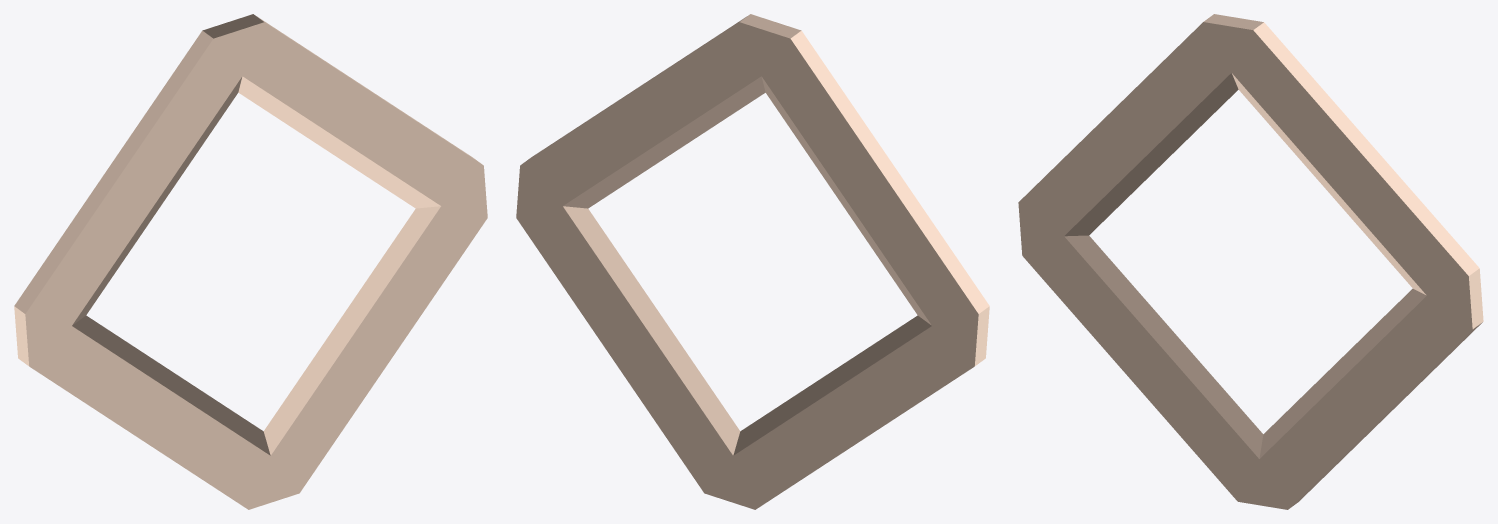
Rendered from Rondelle Aiguille Heures.obj.
3 views of the same model, side by side, from view 1: azimuth 30°, elevation 25°; view 2: azimuth 150°, elevation 25°; view 3: azimuth 330°, elevation 25° (orthographic).
Visible parts, largest first — view 1: Face_14, Face_17, Face_6, Face_15, Face_16, Face_18, Face_7, Face_5; view 2: Face_1, Face_12, Face_6, Face_10, Face_11, Face_13, Face_7, Face_5; view 3: Face_14, Face_15, Face_8, Face_18, Face_17, Face_16, Face_9, Face_2, Face_7.
Boxes of the visible parts, left/top/right/bottom form: Face_14: left=25, top=22, right=487, bottom=509; Face_17: left=263, top=206, right=440, bottom=455; Face_6: left=14, top=31, right=213, bottom=313; Face_15: left=72, top=315, right=270, bottom=455; Face_16: left=238, top=76, right=440, bottom=208; Face_18: left=72, top=77, right=241, bottom=325; Face_7: left=202, top=14, right=263, bottom=38; Face_5: left=14, top=306, right=29, bottom=366; Face_1: left=516, top=22, right=978, bottom=509; Face_12: left=563, top=206, right=740, bottom=455; Face_6: left=790, top=31, right=989, bottom=313; Face_10: left=733, top=315, right=931, bottom=455; Face_11: left=563, top=76, right=765, bottom=208; Face_13: left=762, top=77, right=931, bottom=325; Face_7: left=740, top=14, right=801, bottom=38; Face_5: left=974, top=306, right=989, bottom=366; Face_14: left=1018, top=22, right=1472, bottom=509; Face_15: left=1064, top=235, right=1263, bottom=458; Face_8: left=1253, top=22, right=1479, bottom=275; Face_18: left=1064, top=73, right=1238, bottom=236; Face_17: left=1259, top=288, right=1426, bottom=458; Face_16: left=1232, top=73, right=1425, bottom=294; Face_9: left=1469, top=268, right=1483, bottom=328; Face_2: left=1288, top=322, right=1482, bottom=509; Face_7: left=1203, top=14, right=1263, bottom=29.
Bounding box in the file's own units: 0.0192 × 0.0192 × 0.0008.
